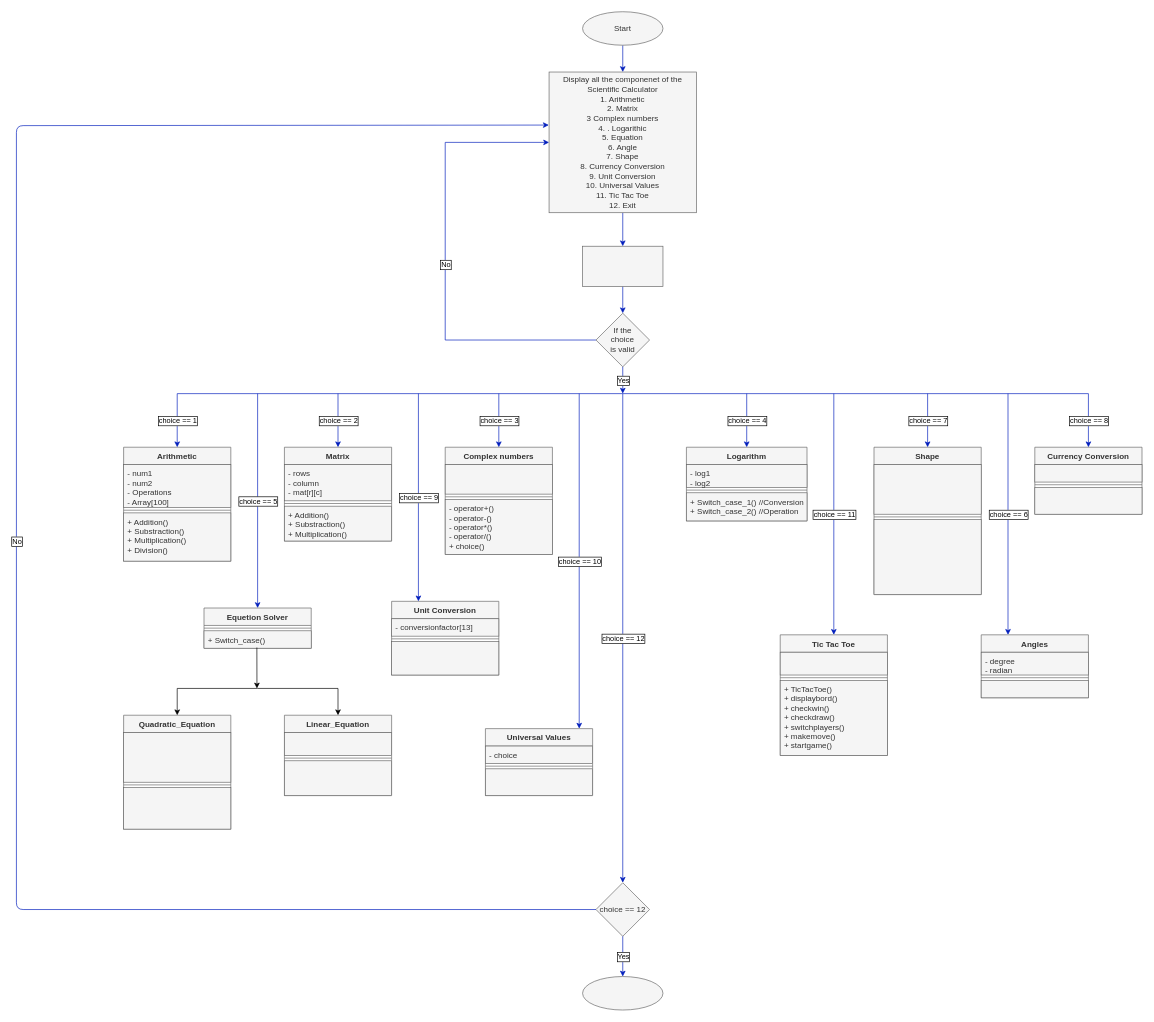
The diagram is 1154 pixels wide and 1022 high, and some of its shapes have lost their labels. The centre of each missing label's shape, as x and y in pixels:
+ circle() + square() + rectangle() + triangle() + cobe() + cuboid() + sphere(): the point at 927,557
+ Conversion(): the point at 1034,689
+ convert() + startconversion(): the point at 1088,500
+ display_choice() + display_value(): the point at 539,782
+ input() + operation() + output(): the point at 177,808
+ inputequation() + gaussJordan() + outputsolution(): the point at 338,778
+ unitconvertor() + performconversion() + startconversion(): the point at 445,658
- bord[3][3] - currentplayer: the point at 833,663
- conversionrate[5][5]: the point at 1088,473
- matrix[max][max+1] - n: the point at 338,743
- raadius - length - breadth -side - height: the point at 927,489
- real - ing: the point at 498,479
- x1 - x2 -a -b -c: the point at 177,757
END: the point at 622,993
Get the choice of the User: the point at 622,266
